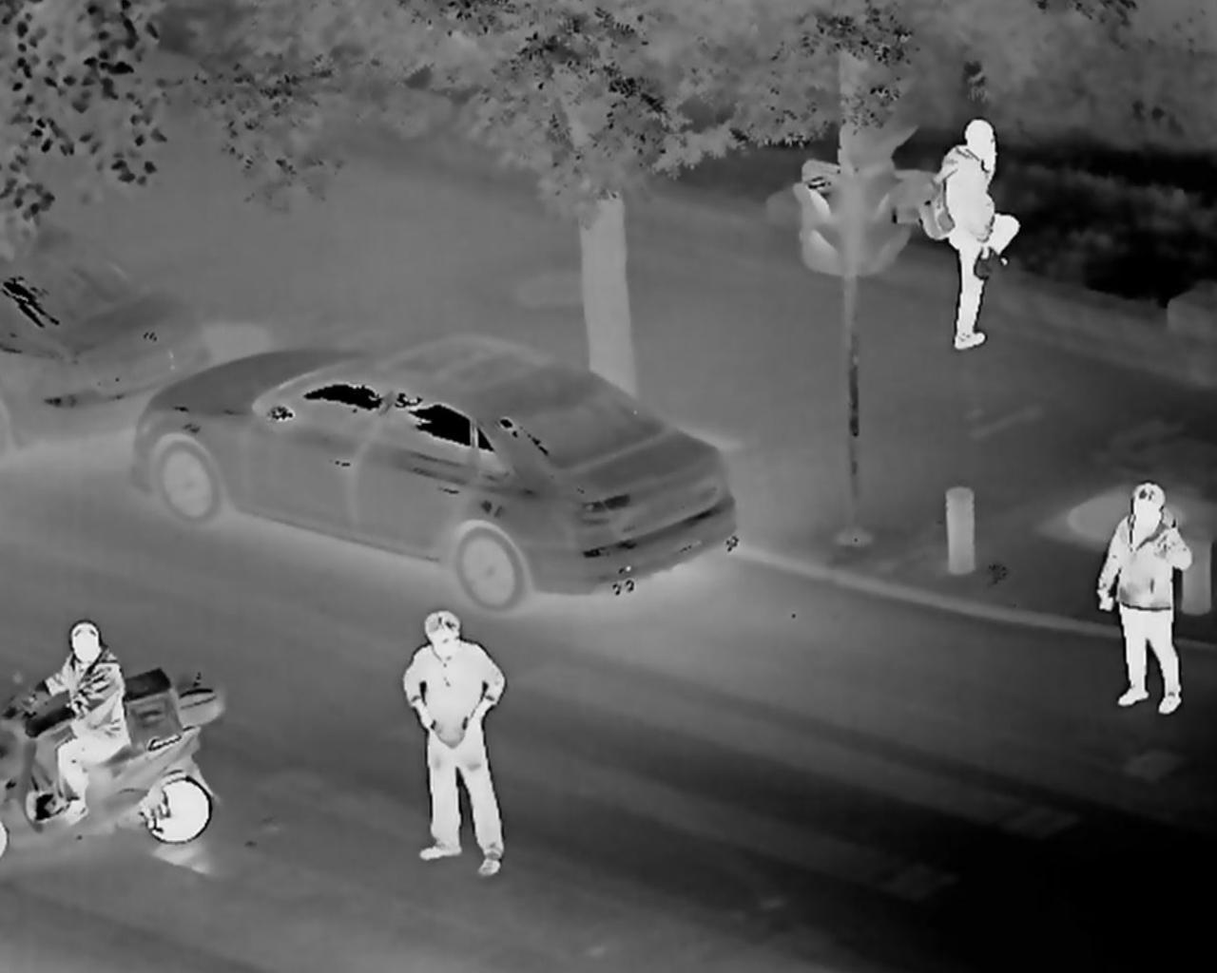person: (398, 609, 521, 883), (1086, 475, 1200, 719), (918, 118, 1022, 349), (29, 618, 140, 816)
